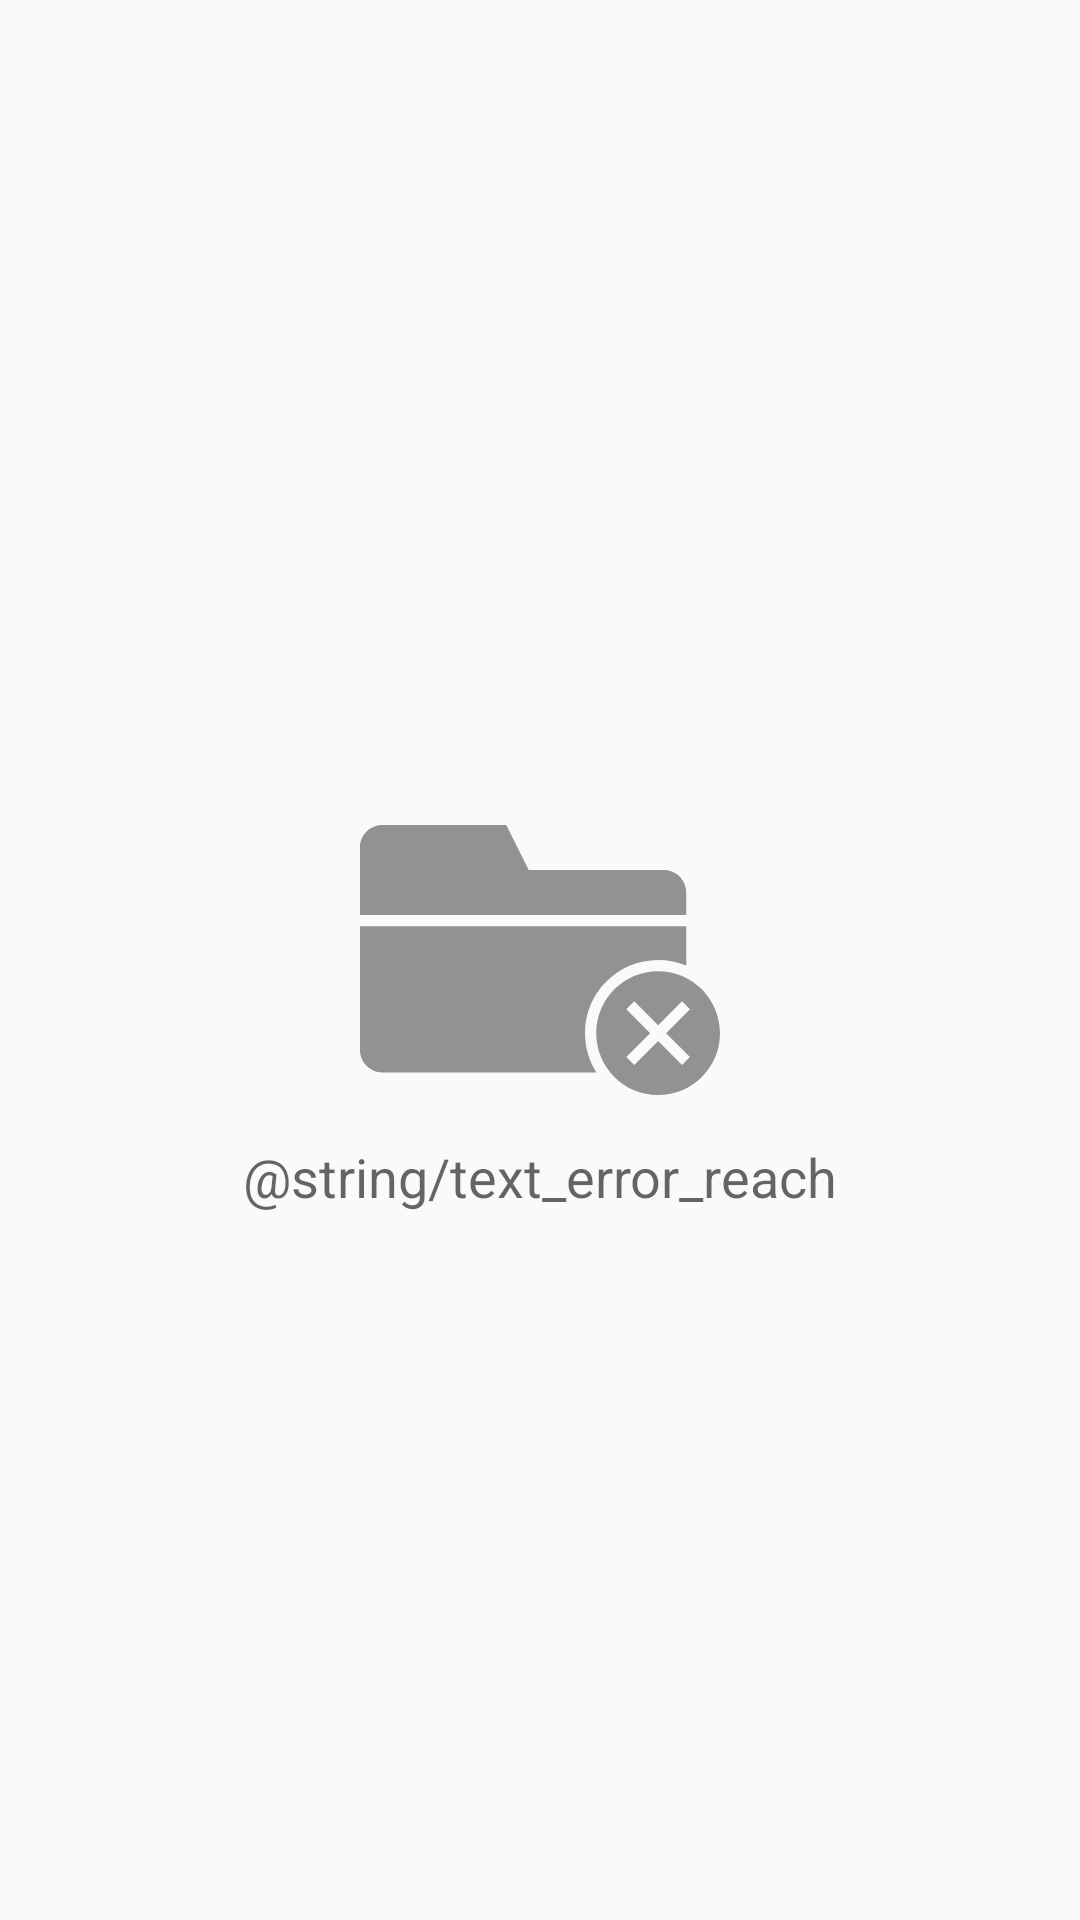

Where to tap for icons on this 1080×1920 app screen, as (x,y):
folder empty: (540,960)
